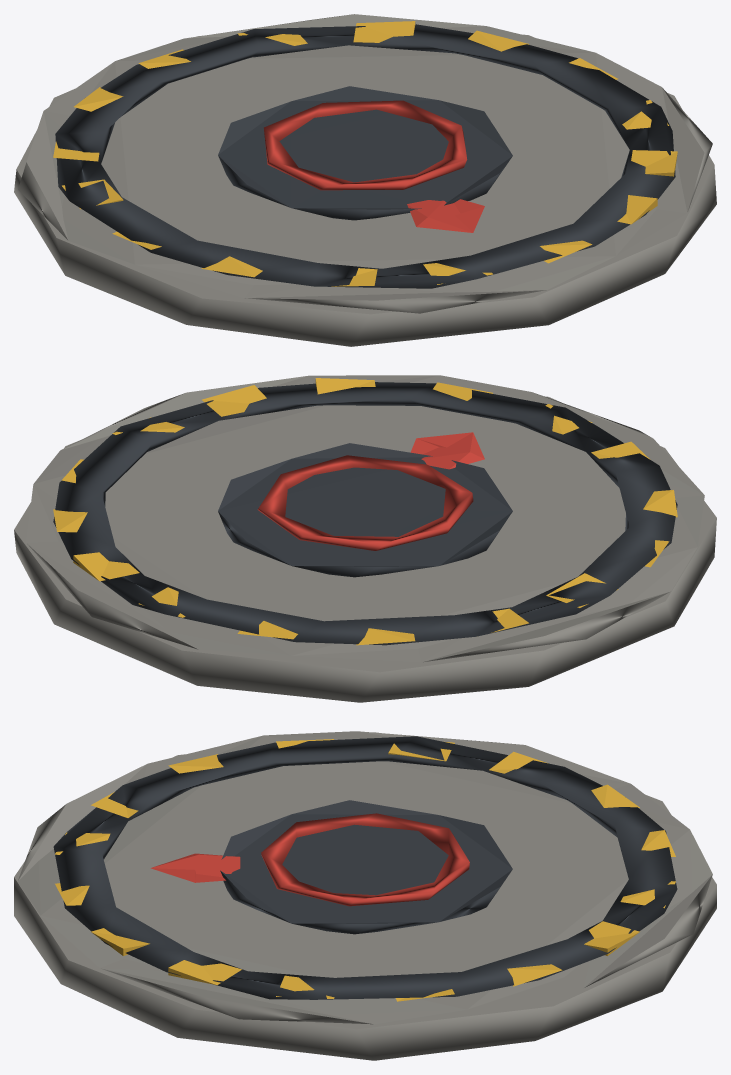
Rendered from spawn_pad_lod1.obj.
The picture shows the model from 3 angles, top to bottom: view 1: azimuth 30°, elevation 25°; view 2: azimuth 150°, elevation 25°; view 3: azimuth 270°, elevation 25°; orthographic projection.
Visible parts, largest first — view 1: spawn_pad_lod1; view 2: spawn_pad_lod1; view 3: spawn_pad_lod1.
Boxes of the visible parts, x1,y1,x2,y2 form: spawn_pad_lod1: (14, 14, 716, 346); spawn_pad_lod1: (14, 375, 716, 702); spawn_pad_lod1: (14, 731, 716, 1060).
Size of the model in its own units: 2.02 by 0.174 by 2.02.
